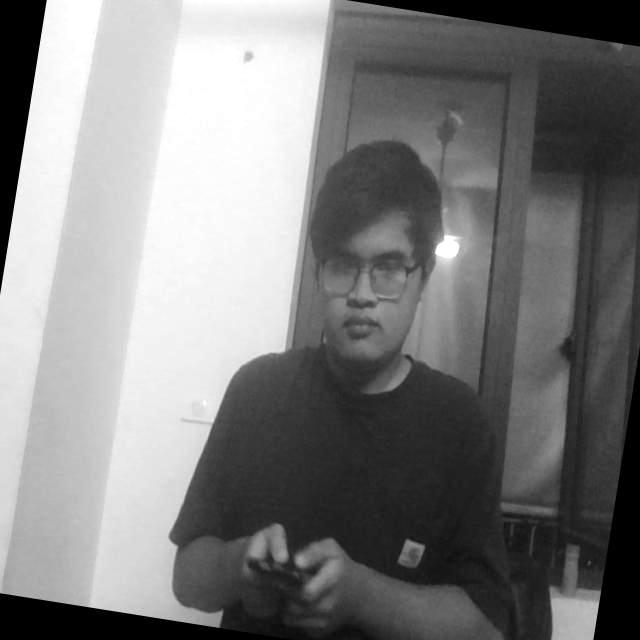phone: (232, 528, 334, 610)
